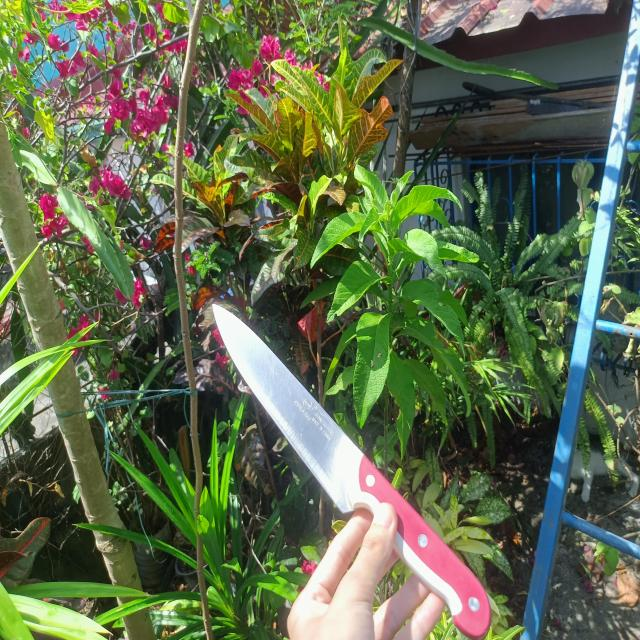knife: (212, 303, 489, 639)
